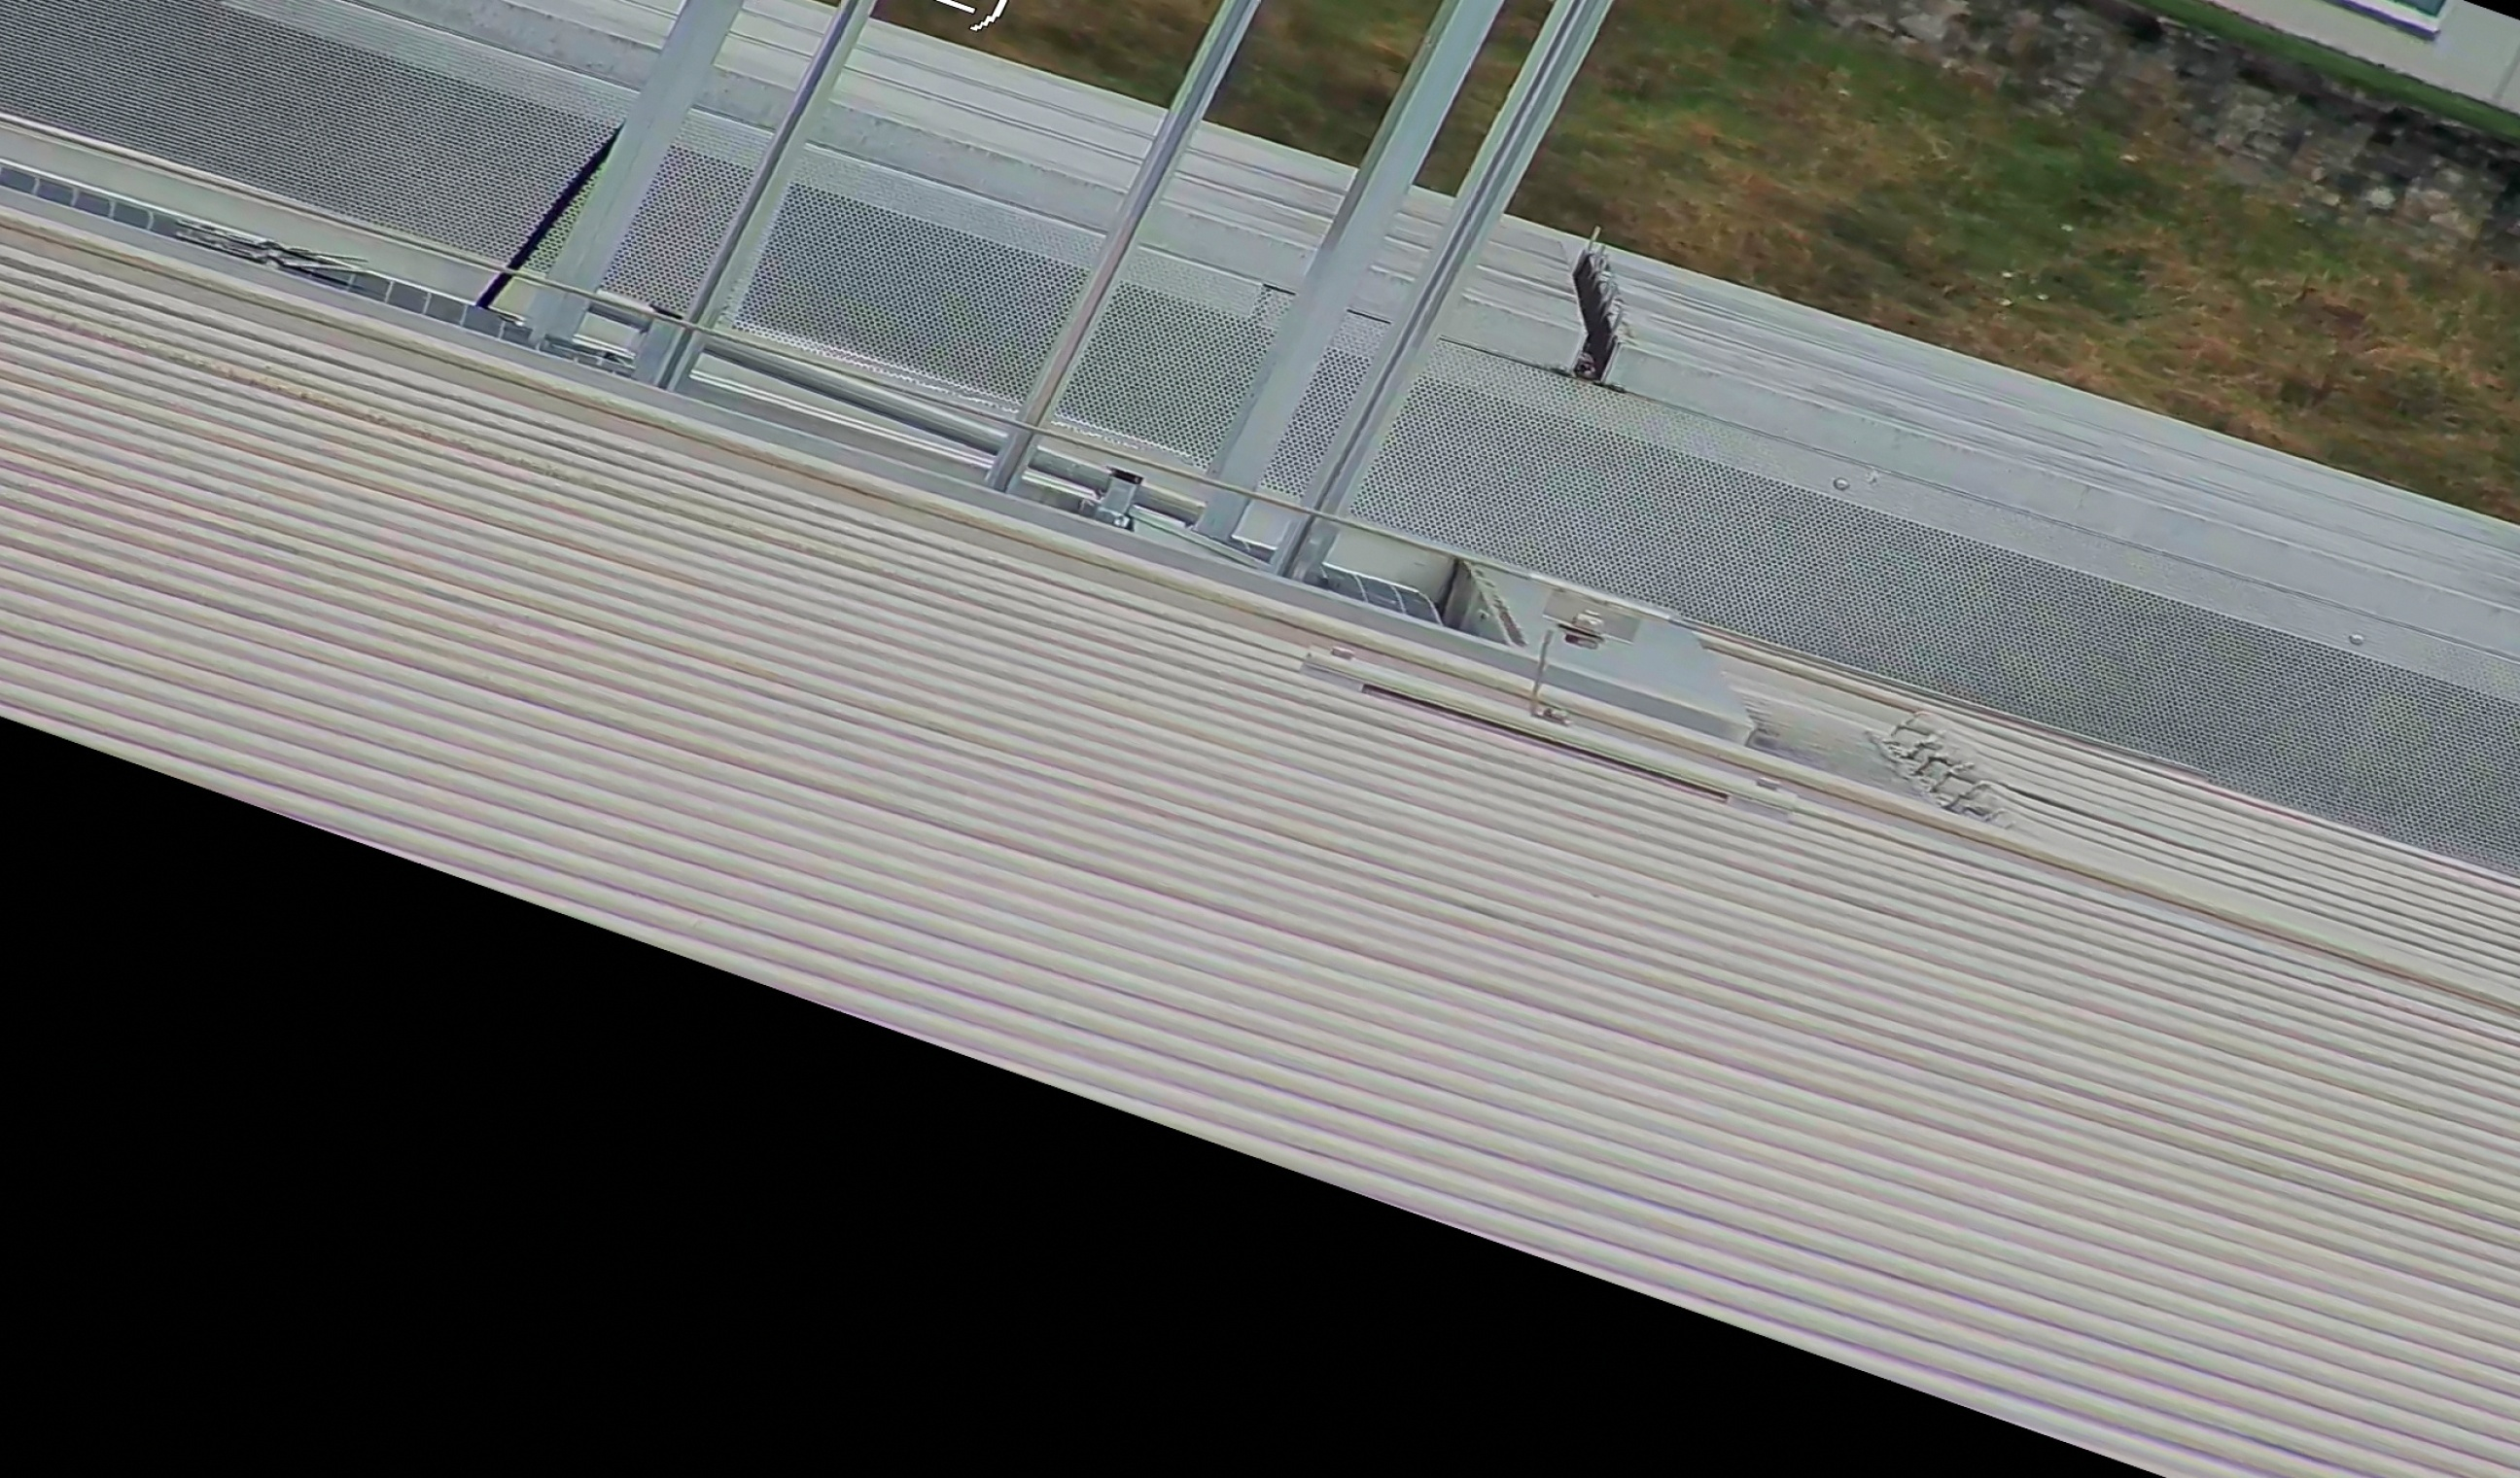Other: (1504, 218, 1692, 394)
